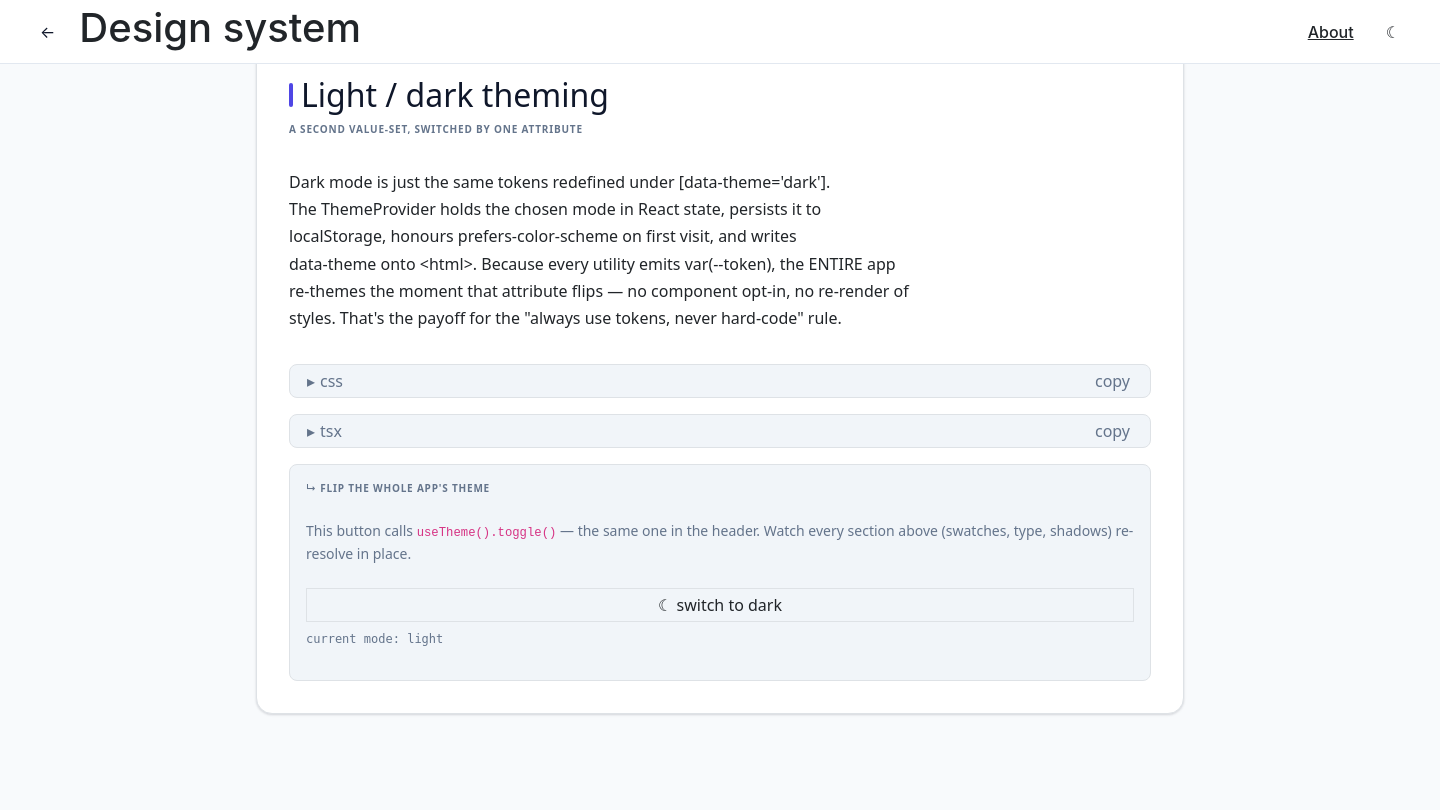
Design system screen › the theme toggle button flips mode and the data-theme attribute
(page scrolled)
Expected: the heading "Light / dark theming" is shown, [289,73,609,116]
Click the button with test id "theme-toggle-demo".
click(720, 605)  # box [306,588,1134,622]
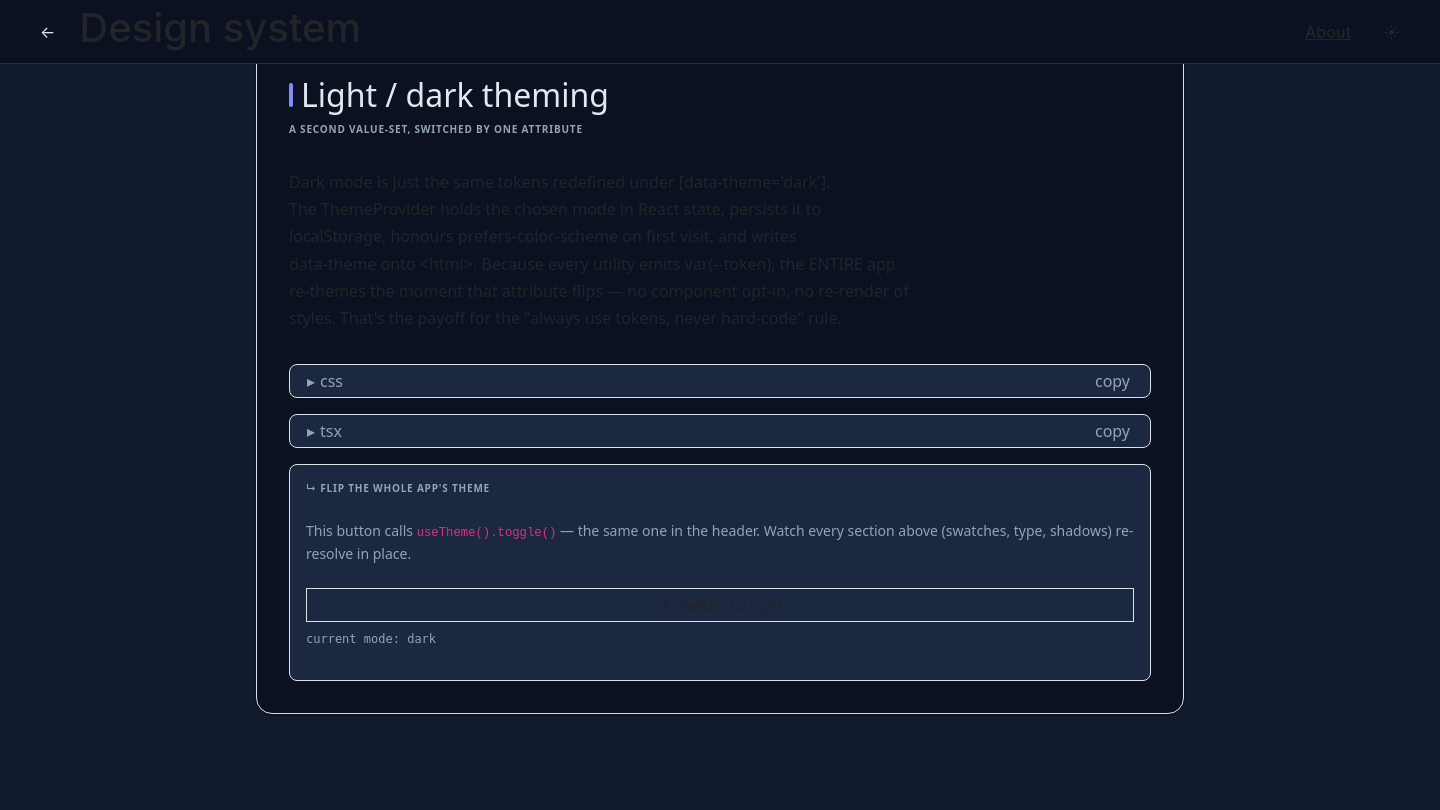
Expected: the button with test id "theme-toggle-demo" shows "switch to light", [306,588,1134,622]
